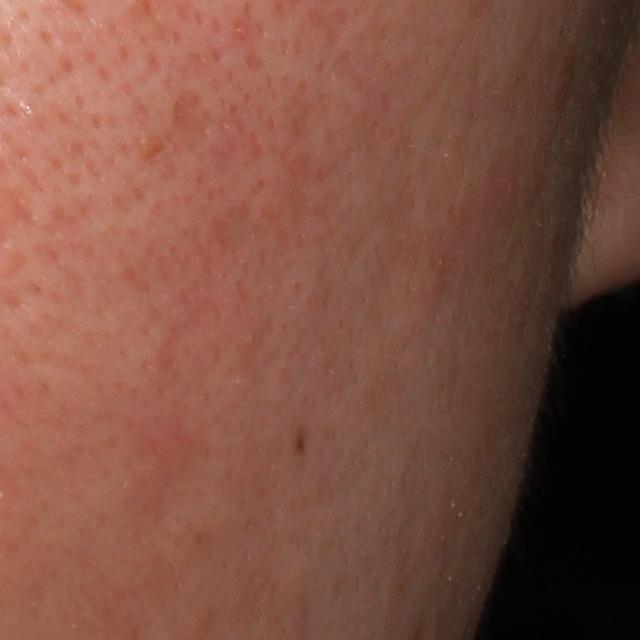nevus: (294, 434, 310, 459)
